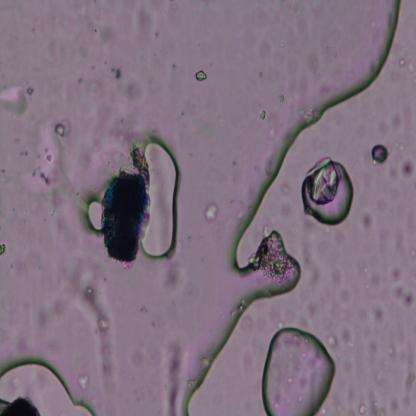Air bubble: (182, 0, 404, 415), (260, 323, 338, 415), (0, 355, 97, 415), (140, 137, 179, 263), (301, 155, 355, 226), (85, 198, 104, 232), (370, 142, 390, 164)
Background material: (26, 104, 86, 212), (86, 80, 138, 150), (66, 260, 110, 332), (250, 227, 297, 280), (300, 214, 322, 290), (164, 337, 184, 415), (124, 2, 162, 42), (320, 268, 352, 312), (158, 251, 190, 294), (0, 82, 35, 121), (366, 298, 384, 368), (387, 264, 413, 308), (276, 175, 298, 226), (101, 330, 116, 383), (376, 112, 402, 137), (35, 309, 64, 330), (340, 325, 359, 354), (359, 209, 376, 233), (53, 118, 70, 139), (255, 103, 274, 121), (203, 202, 219, 223), (401, 155, 414, 180), (276, 88, 289, 109), (109, 65, 124, 83), (190, 70, 209, 84), (258, 65, 268, 80)
Fragment: (100, 169, 148, 266)
